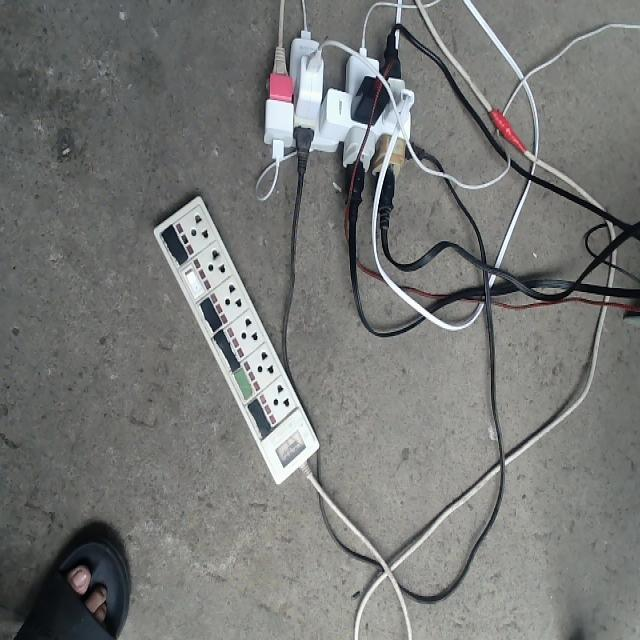-: (255, 21, 418, 195)
